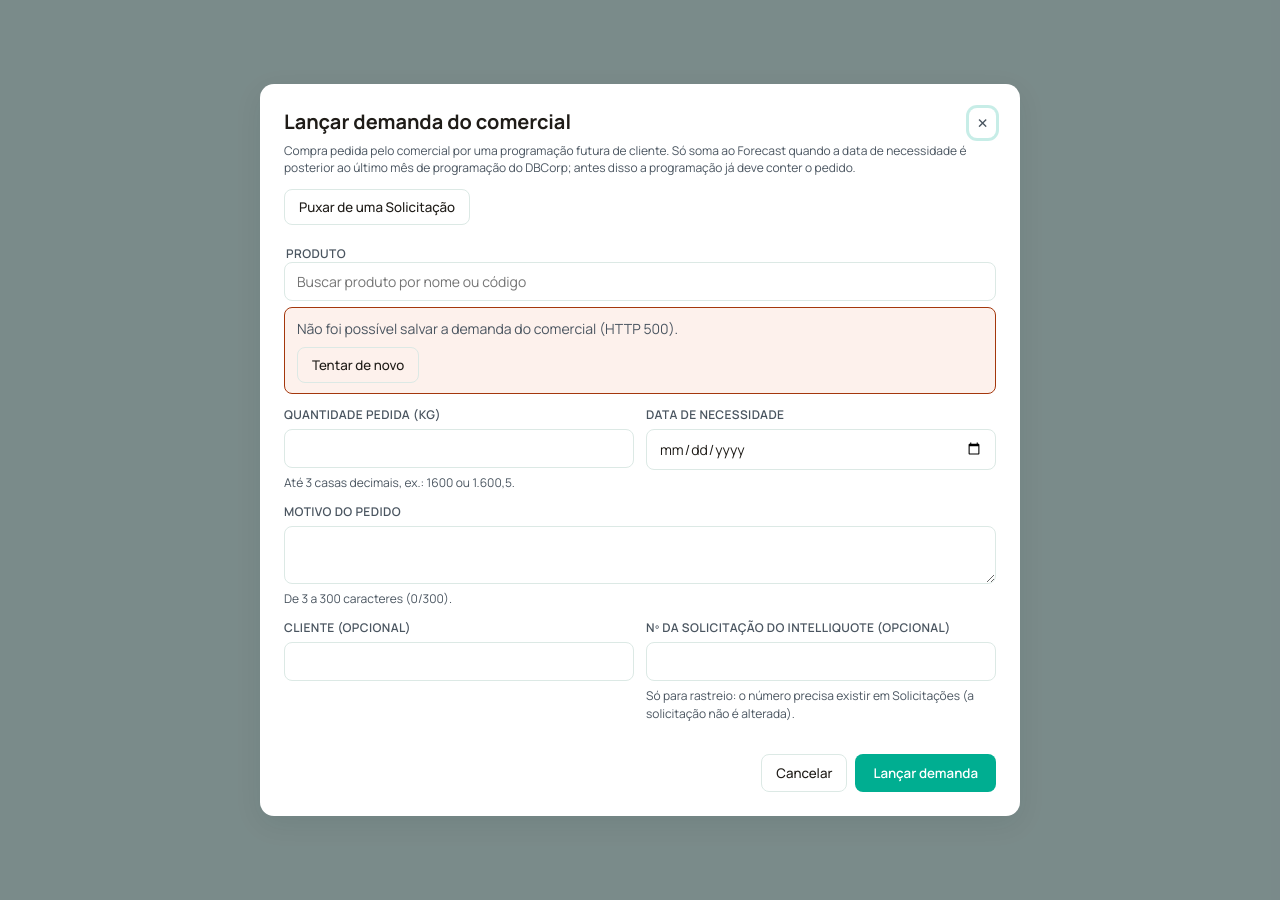
Test case: ForecastDemandaComercialModal - lancar › falha ao carregar os produtos: mensagem e "Tentar de novo"
Expected: the message shows "Não foi possível salvar a demanda do comercial (HTTP 500).", [297, 319, 678, 338]
Click the button "Tentar de novo": (358, 365) [297, 347, 419, 383]
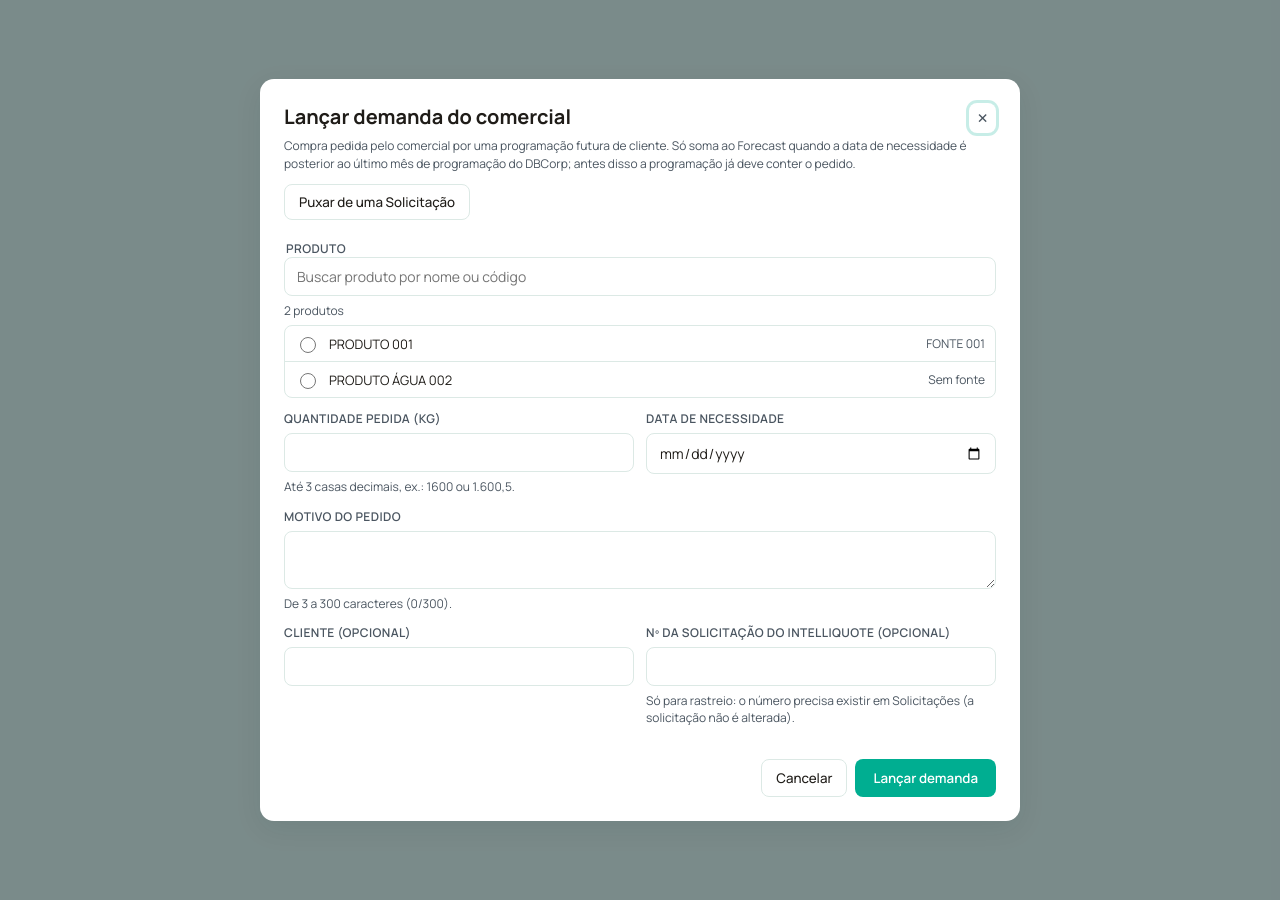
Expected: the text "2 produtos" is shown, [284, 302, 344, 319]
